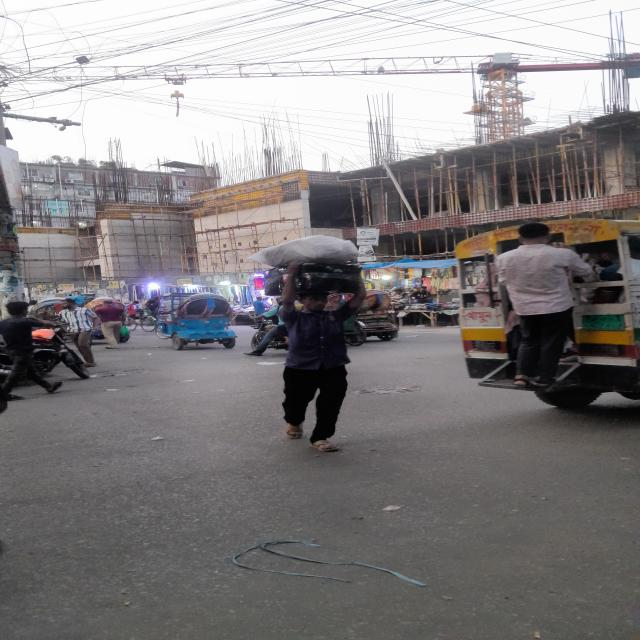person: (279, 264, 366, 452), (0, 302, 63, 399), (58, 298, 98, 367), (94, 299, 126, 349)
